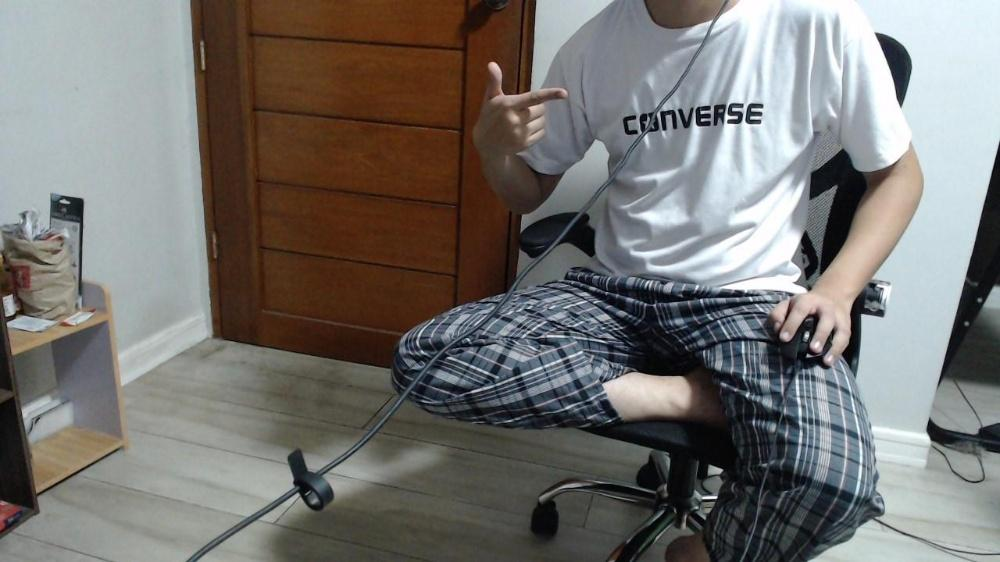g: (477, 61, 568, 155)
